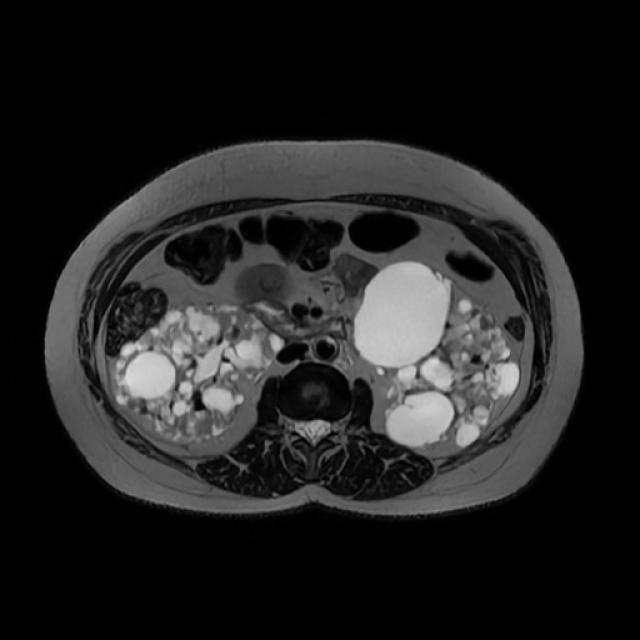sag: (116, 304, 279, 442)
sol: (352, 260, 517, 448)
